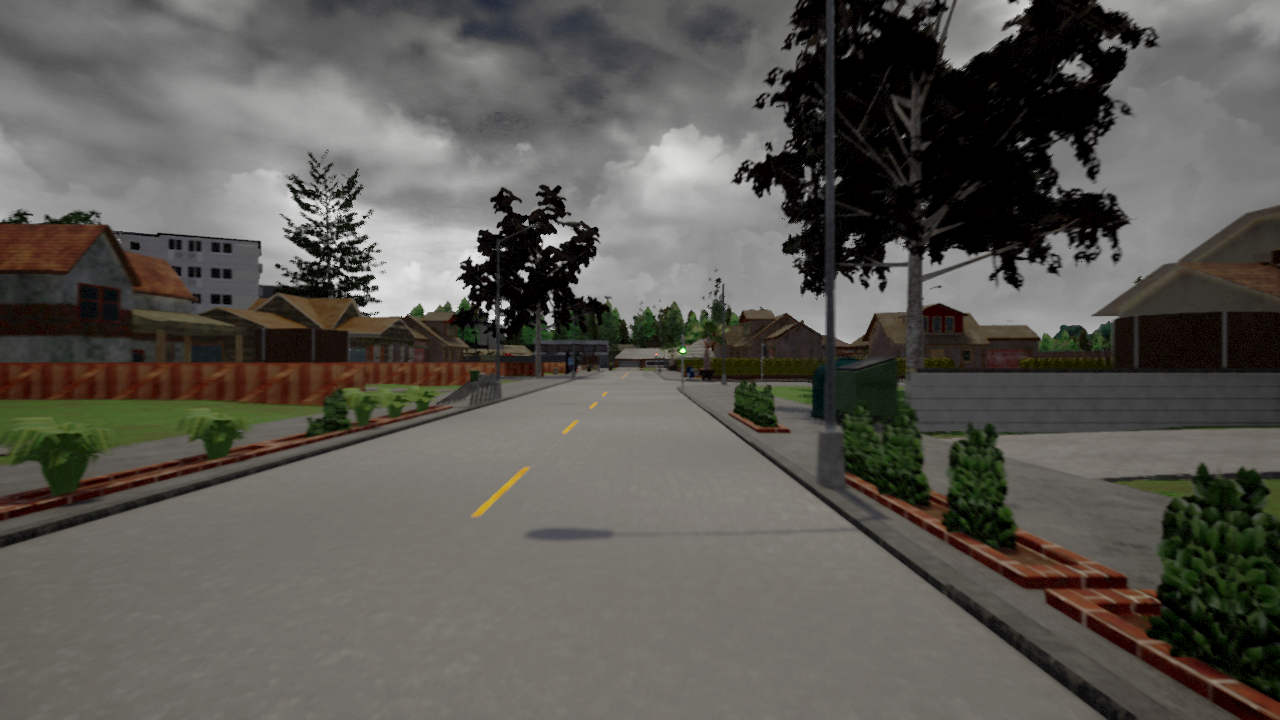green: (679, 337, 688, 356)
